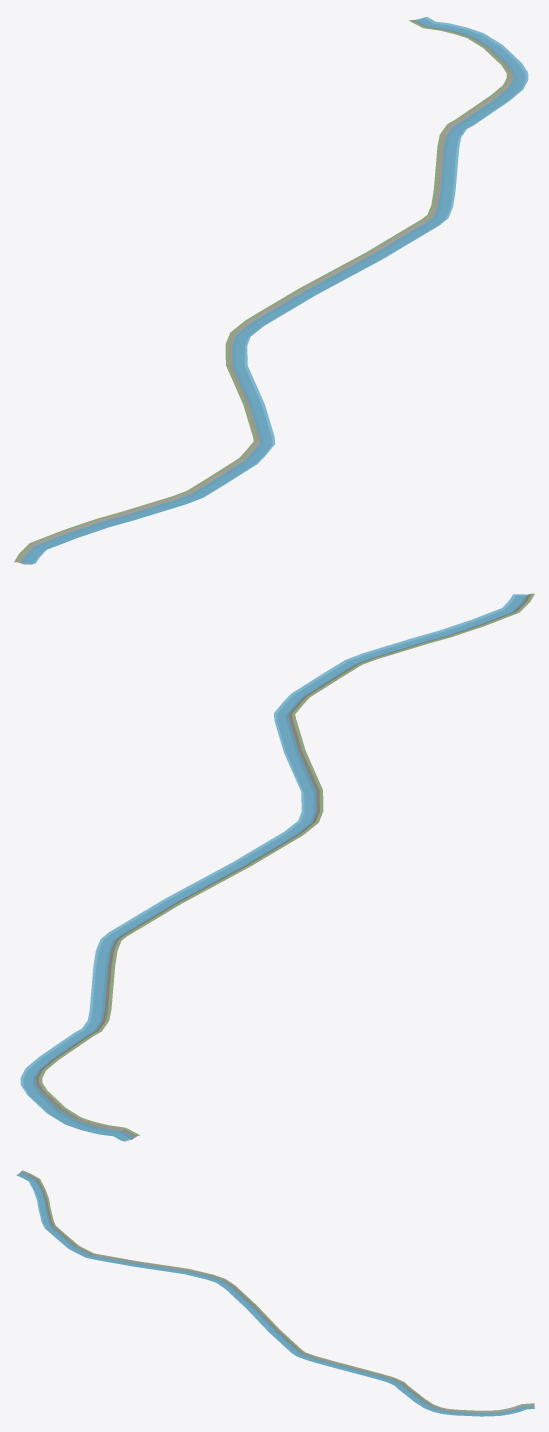
The model's file is corridor-05.glb.
The picture shows the model from 3 angles, top to bottom: view 1: azimuth 30°, elevation 25°; view 2: azimuth 210°, elevation 25°; view 3: azimuth 270°, elevation 25°; orthographic projection. The views are drawn at different scales.
Parts seen in each view (by area): view 1: water_water, concreteDark_terrain, rock_terrain, grass_terrain; view 2: water_water, concreteDark_terrain, rock_terrain, grass_terrain; view 3: water_water, rock_terrain, concreteDark_terrain, grass_terrain.
Boxes of the visible parts, x1,y1,x2,y2 form: water_water: (21,17,528,563); concreteDark_terrain: (23,19,524,564); rock_terrain: (18,20,515,563); grass_terrain: (14,20,509,562); water_water: (20,594,527,1140); concreteDark_terrain: (24,596,524,1141); rock_terrain: (33,594,530,1139); grass_terrain: (39,593,534,1135); water_water: (16,1172,534,1416); rock_terrain: (20,1171,534,1413); concreteDark_terrain: (18,1174,533,1415); grass_terrain: (22,1170,534,1411).
Size of the model in its own units: 8837 by 22.56 by 7869.
4 materials, 4 textured.
